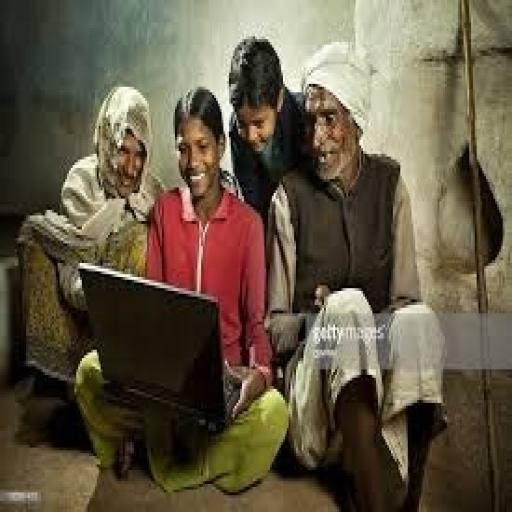using_laptop: (75, 257, 242, 434)
